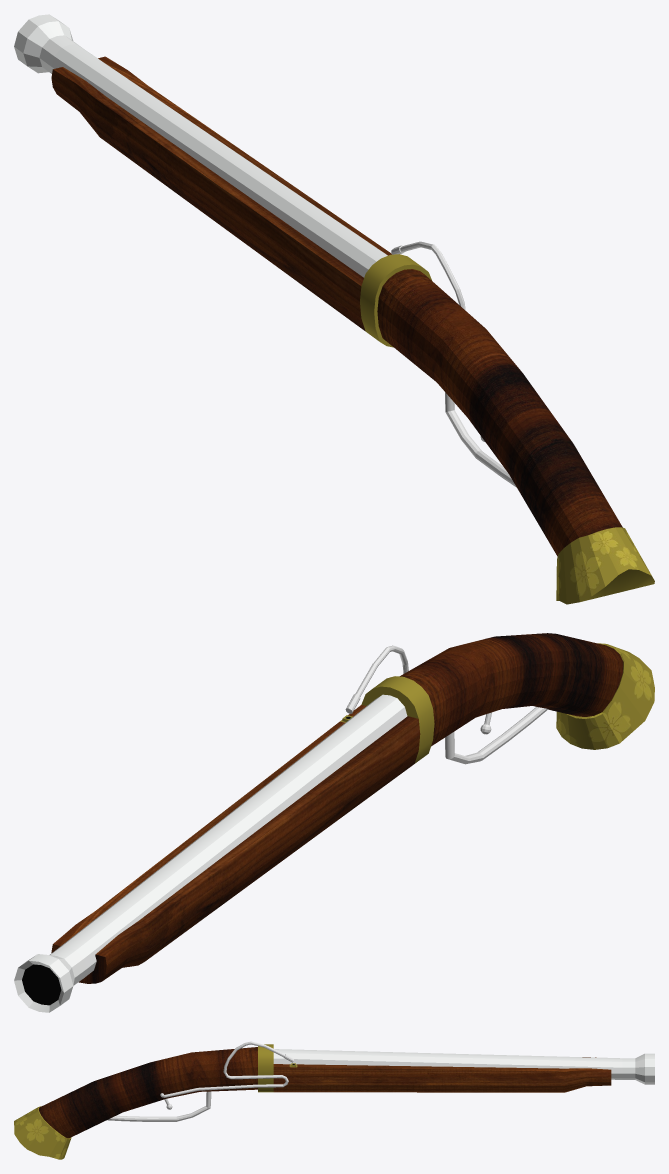
Rendered from tanegashima.fbx.
The picture shows the model from 3 angles, top to bottom: view 1: azimuth 30°, elevation 25°; view 2: azimuth 150°, elevation 25°; view 3: azimuth 270°, elevation 25°; orthographic projection. The views are drawn at different scales.
Parts seen in each view (by area): view 1: cuerpo, canyon, arandela; view 2: cuerpo, canyon, arandela, percutor; view 3: cuerpo, canyon, percutor, arandela.
Part boxes in pixels (<box>): cuerpo: <box>51,56,654,604</box>; canyon: <box>14,14,387,277</box>; arandela: <box>445,392,516,487</box>; cuerpo: <box>51,633,654,983</box>; canyon: <box>14,694,407,1012</box>; arandela: <box>445,707,548,764</box>; percutor: <box>345,645,408,713</box>; cuerpo: <box>14,1044,611,1159</box>; canyon: <box>273,1049,654,1084</box>; percutor: <box>160,1041,293,1097</box>; arandela: <box>107,1091,211,1121</box>.
Size of the model in its own units: 1.69 by 4.55 by 22.01.
